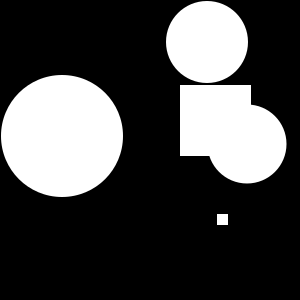circle: (180, 85, 251, 156), (217, 214, 228, 225)
rectangle: (1, 75, 123, 197), (166, 1, 248, 83), (208, 104, 286, 183)
